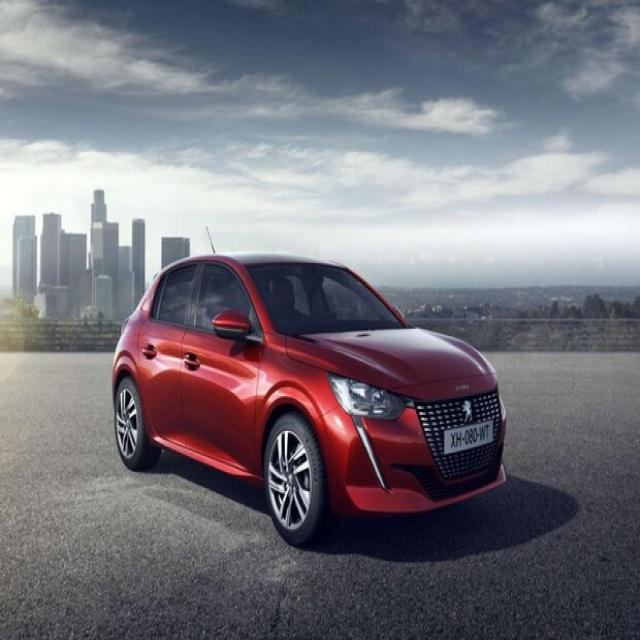yolov7-seg-car: (112, 225, 507, 548)
